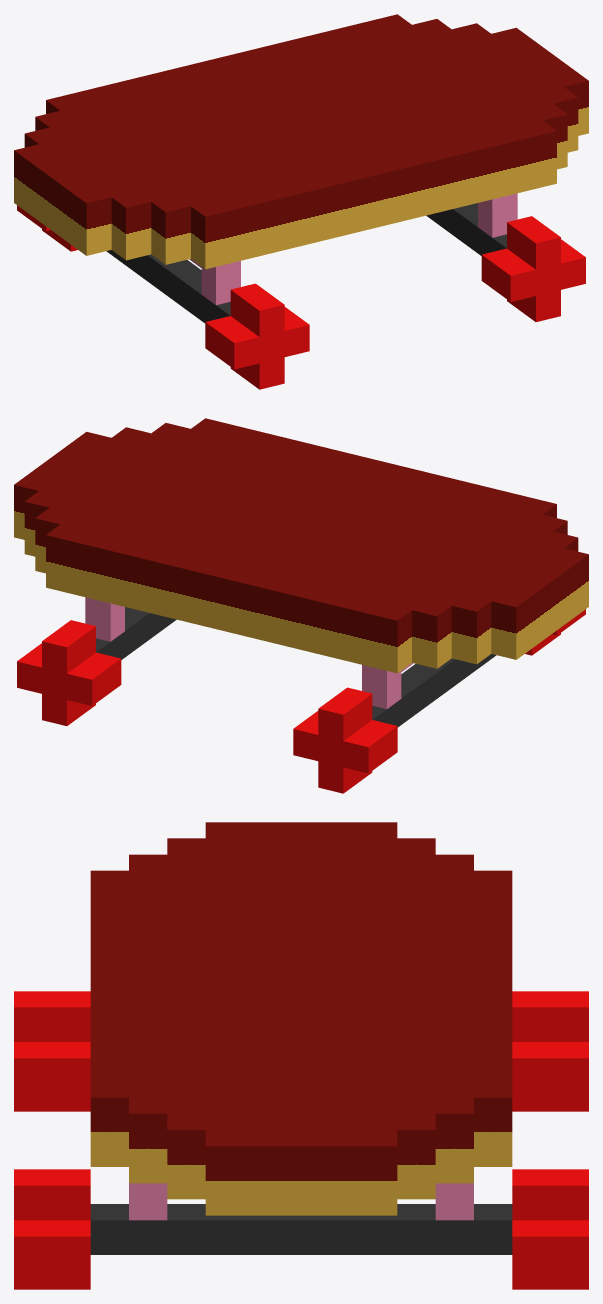
The model's file is Vehicle_32.fbx.
3 views of the same model, one above another, from view 1: azimuth 30°, elevation 25°; view 2: azimuth 150°, elevation 25°; view 3: azimuth 270°, elevation 25° (orthographic). The views are drawn at different scales.
Parts seen in each view (by area): view 1: Vehicle_32; view 2: Vehicle_32; view 3: Vehicle_32.
Part boxes in pixels (x1,y1,x2,y2): Vehicle_32: (14,14,588,389); Vehicle_32: (14,418,588,793); Vehicle_32: (14,822,588,1289).
Bounding box in the file's own units: 20 × 6 × 15.
Materials: 1 (1 with a texture image).
